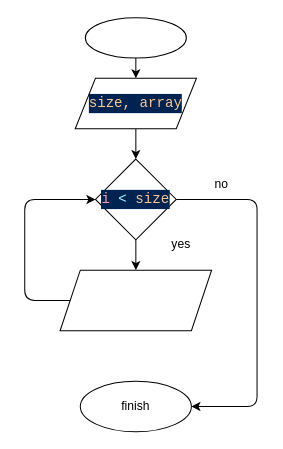
This 283x449 diagram has some shape labels left out. The centre of each missing label's shape, as x and y in pixels:
array [ i ]: [135,300]
start: [135,37]
